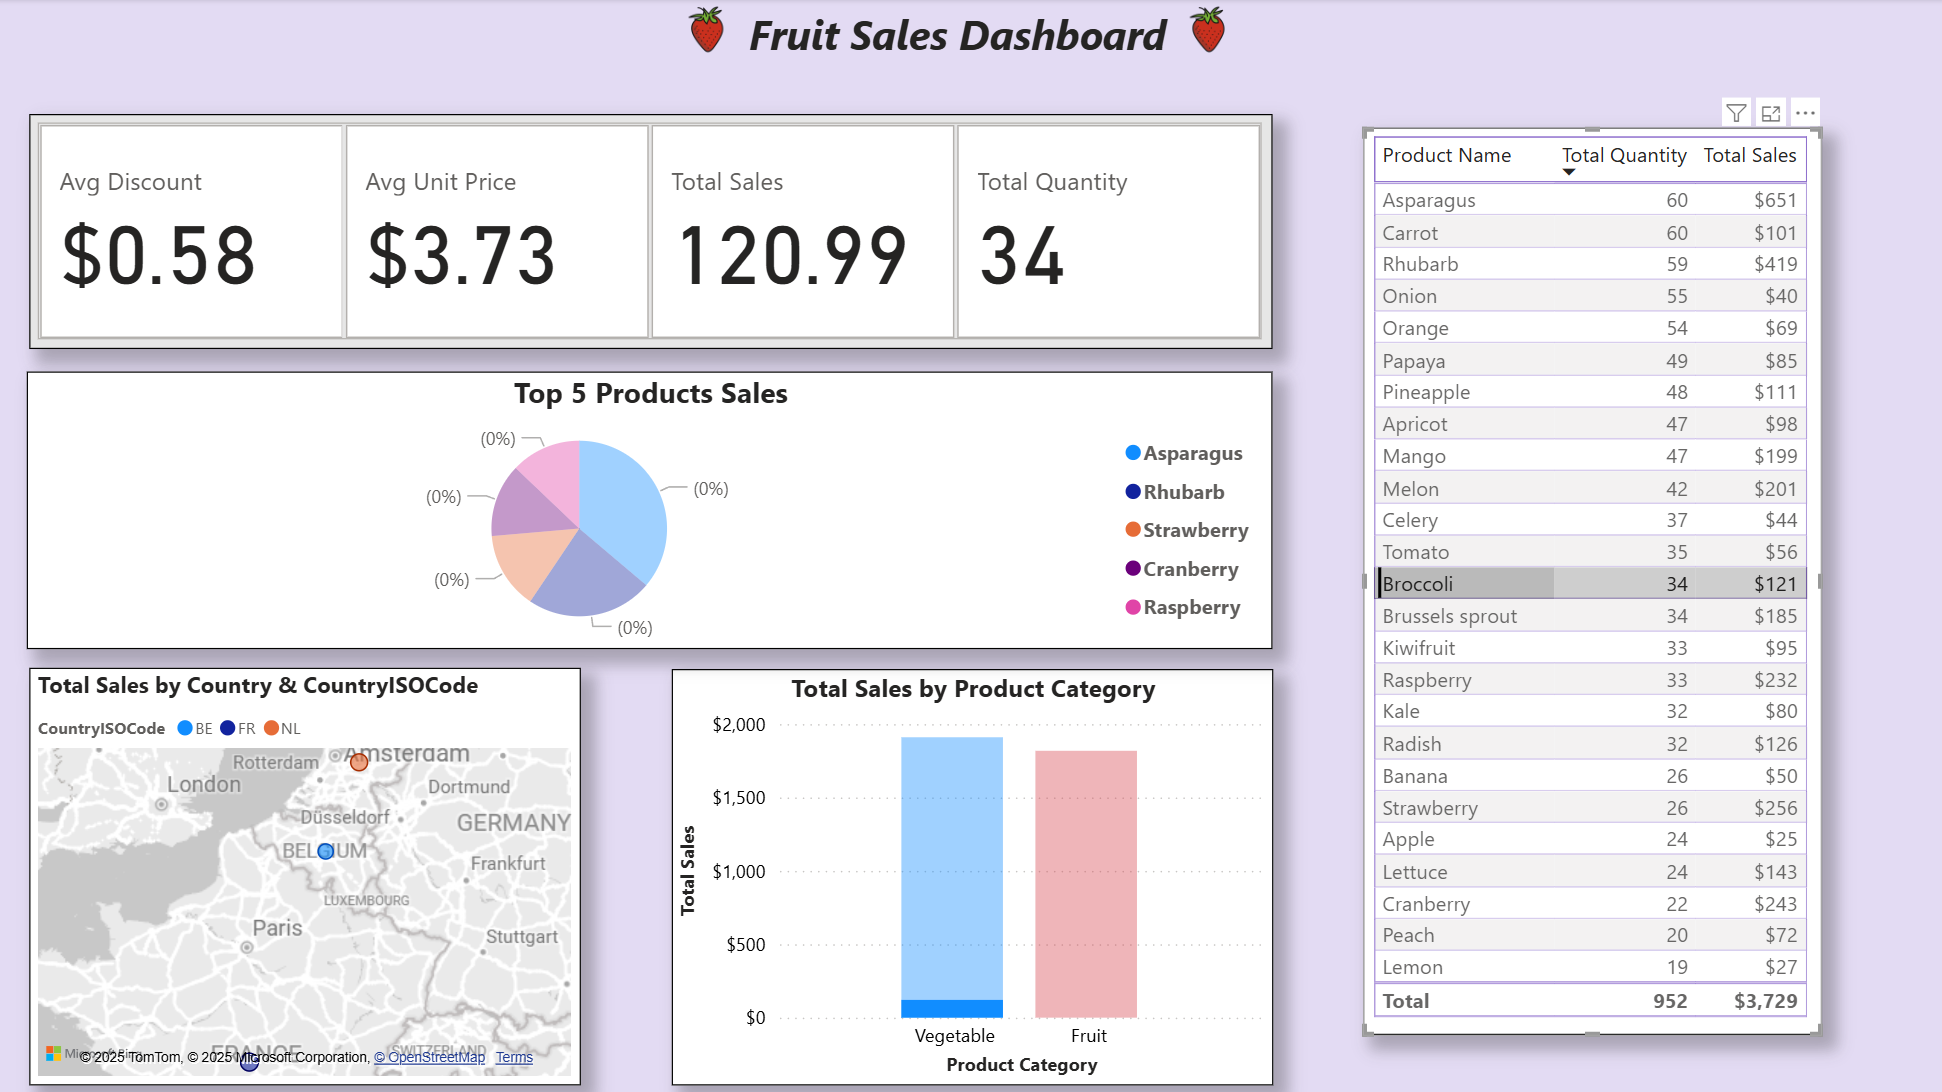

This screenshot's page, from the dashboard's own definition file:
{"tool":"powerbi","page":{"name":"Page 1","canvas":[1280,720],"ordinal":0},"visuals":[{"type":"cardVisual","fields":{"Data":["Sales.Avg Discount","Sales.Avg Unit Price","Sales.Total Sales","Sales.Total Quantity"]},"box":[20.5,75.5,817.1,154.4],"z":0},{"type":"columnChart","title":"Total Sales by Product Category","fields":{"Category":["Product.ProductCategory"],"Y":["Sales.Total Sales"]},"box":[442.6,440.1,395,273.4],"z":1000},{"type":"pieChart","title":"Top 5 Products Sales","fields":{"Category":["Product.ProductName"],"Y":["Sales.Total Sales"]},"box":[18.9,244.7,818.7,182.3],"z":2000},{"type":"map","title":"Total Sales by Country & CountryISOCode","fields":{"Category":["Customer.Country"],"Size":["Sales.Total Sales"],"Series":["Customer.CountryISOCode"]},"box":[20.5,439.3,362.1,274.3],"z":3000},{"type":"textbox","box":[19.7,0,1221.4,49.9],"z":5000},{"type":"image","box":[443.1,0,42.9,40.6],"z":6000},{"type":"image","box":[772.5,0,42.9,40.6],"z":7000},{"type":"tableEx","fields":{"Values":["Product. Product Name","Sales.Total Quantity","Sales.Total Sales"]},"box":[896.7,84.6,301.4,596.2],"z":7001}]}

Visuals, with their boxes in screenshot pixels (x1, y1, x2, y2), scaled from the page's 1280x720 canvas onto the 1942x1092 screenshot:
cardVisual - Sales.Avg Discount x Sales.Avg Unit Price: {"left": 31, "top": 115, "right": 1271, "bottom": 349}
"Total Sales by Product Category" columnChart: {"left": 672, "top": 667, "right": 1271, "bottom": 1082}
"Top 5 Products Sales" pieChart: {"left": 29, "top": 371, "right": 1271, "bottom": 648}
"Total Sales by Country & CountryISOCode" map: {"left": 31, "top": 666, "right": 580, "bottom": 1082}
textbox: {"left": 30, "top": 0, "right": 1883, "bottom": 76}
image: {"left": 672, "top": 0, "right": 737, "bottom": 62}
image: {"left": 1172, "top": 0, "right": 1237, "bottom": 62}
tableEx - Product. Product Name x Sales.Total Quantity: {"left": 1360, "top": 128, "right": 1818, "bottom": 1033}
